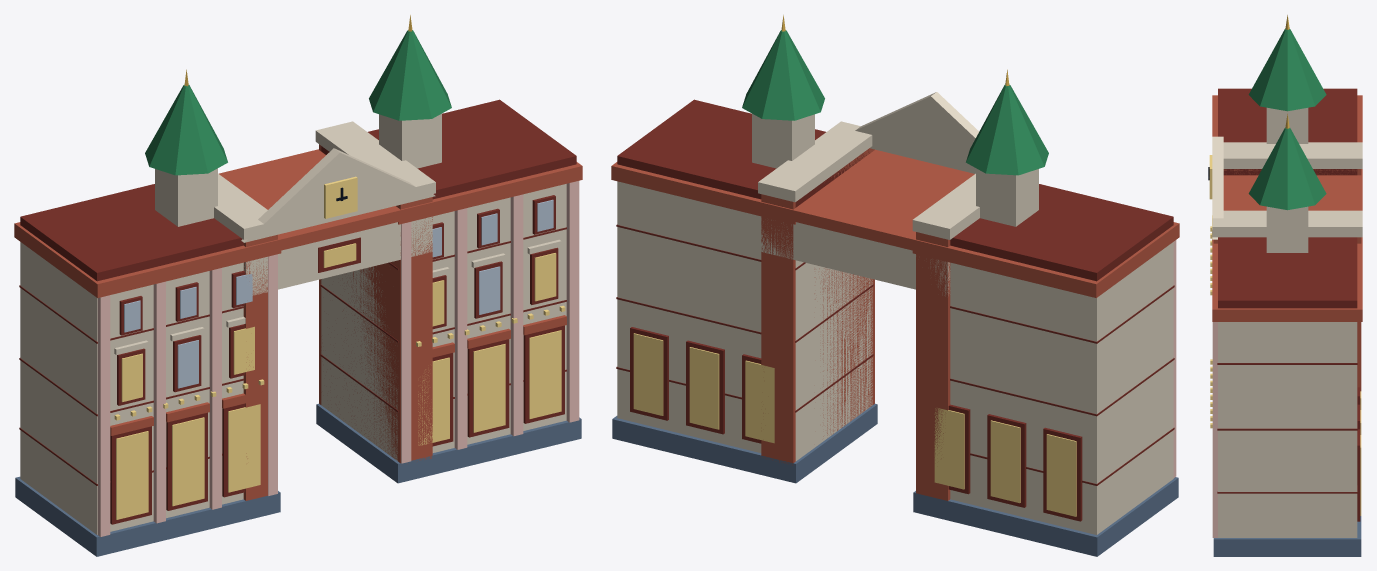
The model's file is bld_gum_facade.glb.
3 renders of one model, left to right at view 1: azimuth 30°, elevation 25°; view 2: azimuth 150°, elevation 25°; view 3: azimuth 270°, elevation 25°, orthographic. The views are drawn at different scales.
Visible parts, largest first — view 1: bld_gum_facade; view 2: bld_gum_facade; view 3: bld_gum_facade.
Boxes of the visible parts, x1,y1,x2,y2 form: bld_gum_facade: [14, 15, 582, 556]; bld_gum_facade: [611, 15, 1179, 556]; bld_gum_facade: [1208, 15, 1362, 556].
Size of the model in its own units: 18.2 by 15.3 by 5.55.
Materials: 1 (1 with a texture image).
